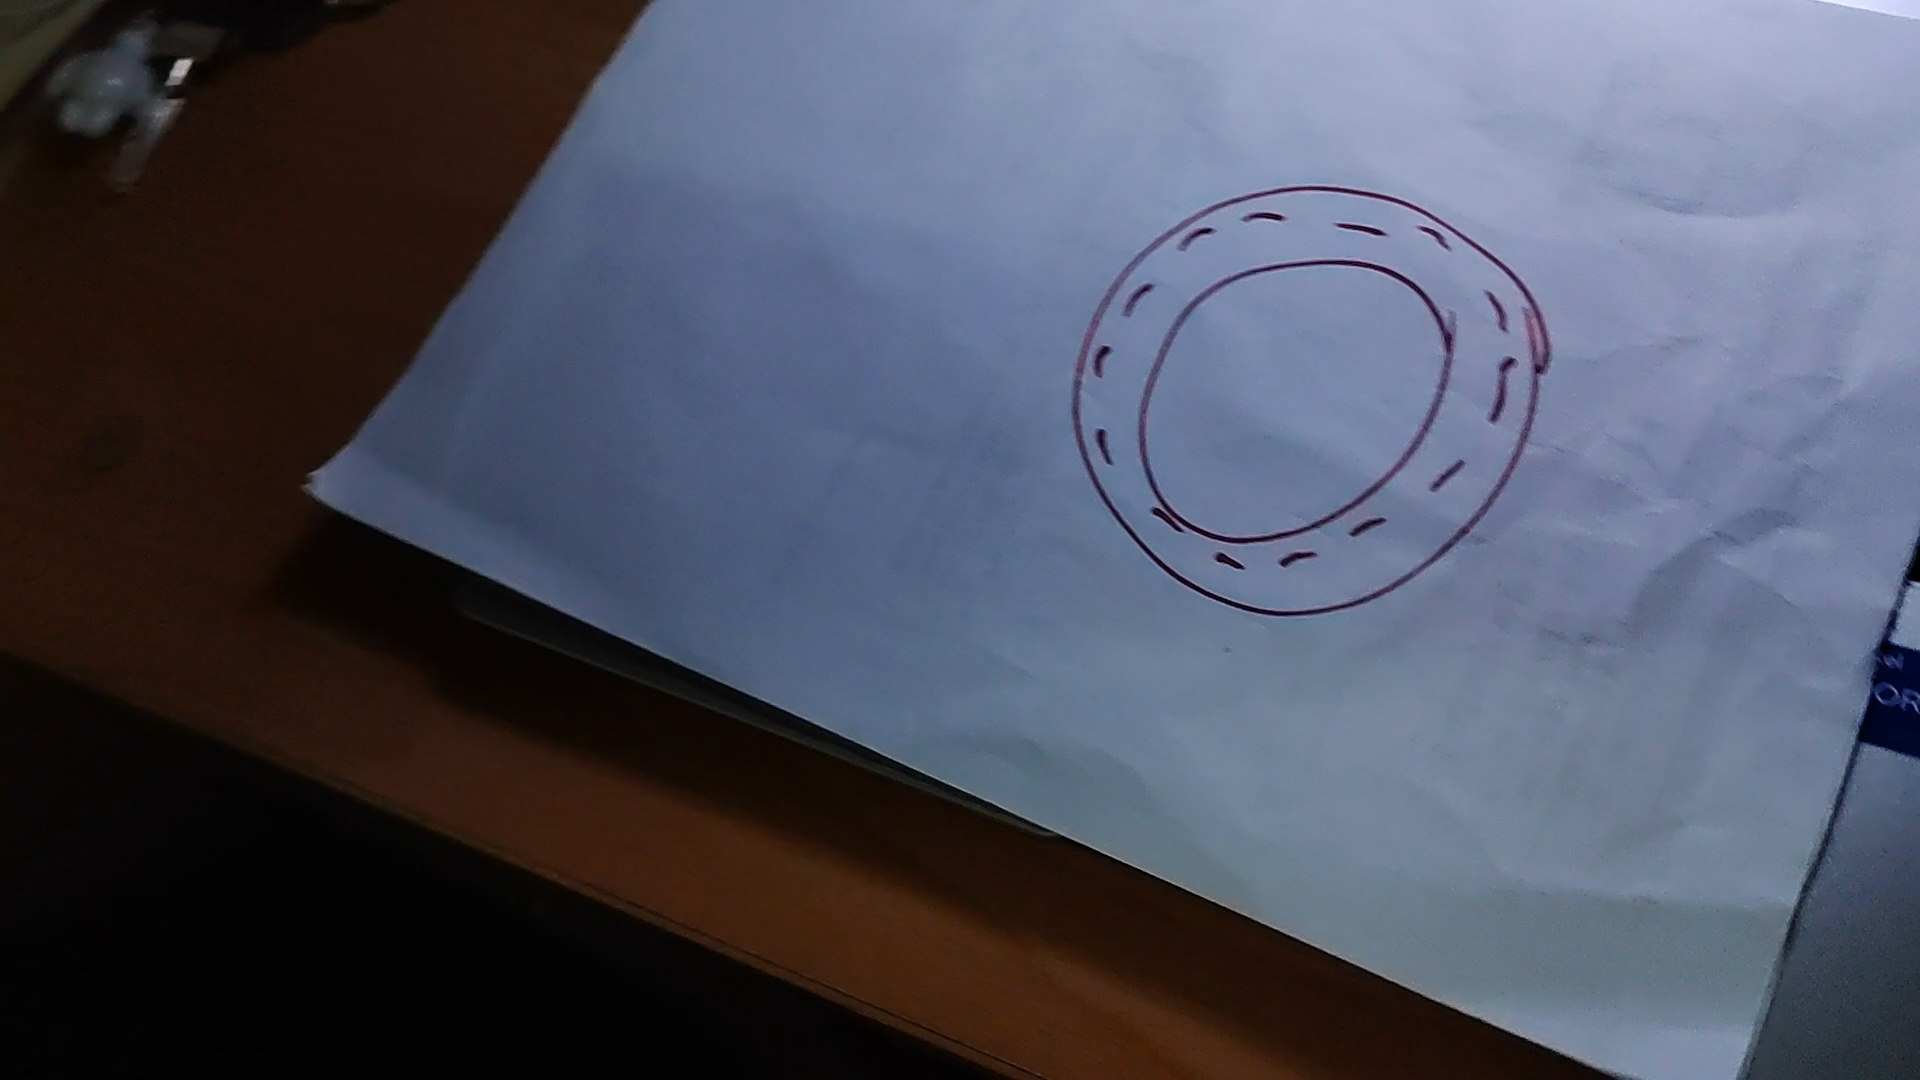circle: (1073, 189, 1548, 615)
